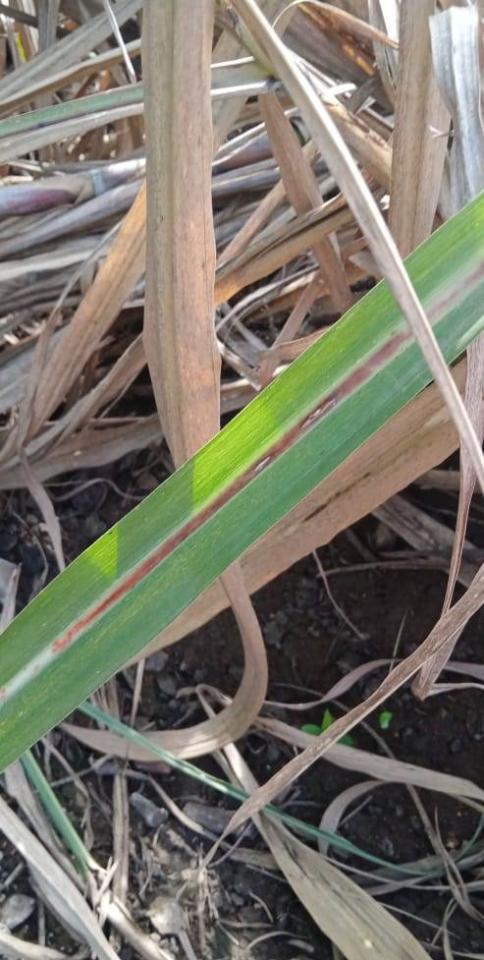RedRot: (47, 325, 415, 658), (425, 264, 483, 322)
